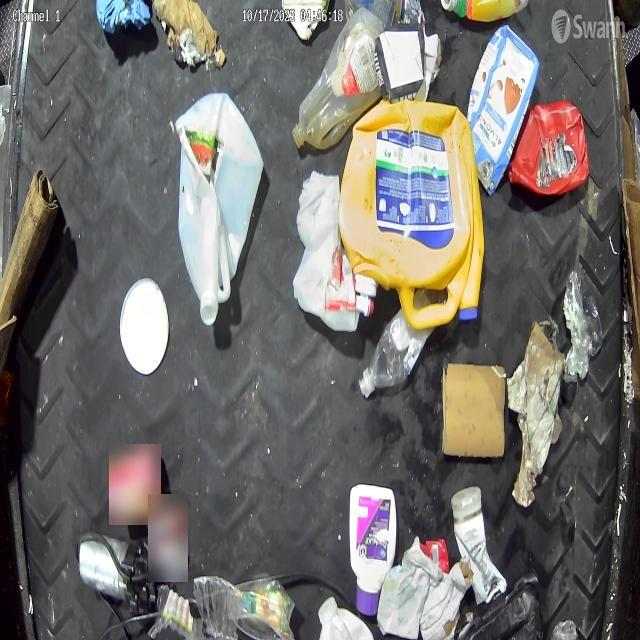milk_jug: (176, 92, 264, 326)
non_white_jug: (338, 103, 486, 331), (292, 7, 384, 150), (465, 24, 540, 198), (512, 101, 590, 197)
plastic_bottle: (358, 307, 434, 398)
